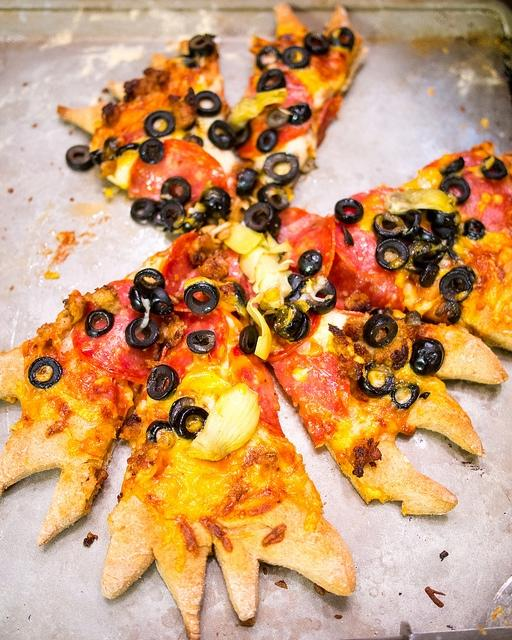onion: (184, 382, 262, 462), (384, 189, 458, 214), (253, 254, 294, 294), (222, 220, 264, 254), (239, 246, 266, 283), (106, 160, 134, 186)
